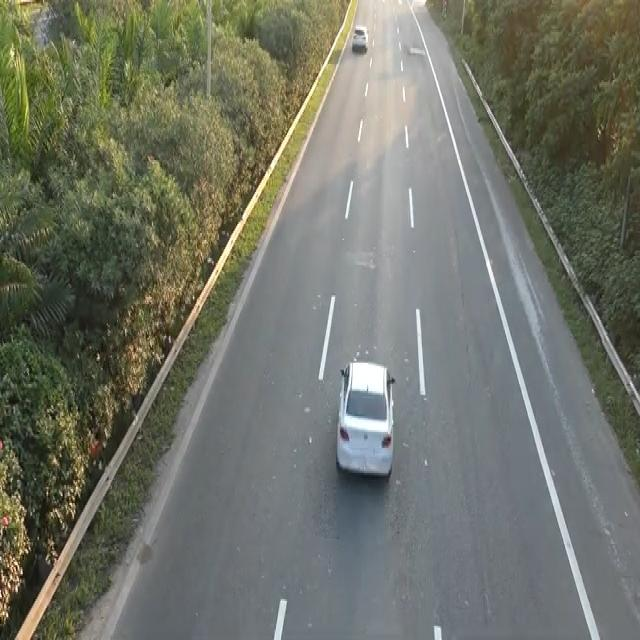bus: (333, 356, 396, 480)
car: (350, 23, 369, 53)
